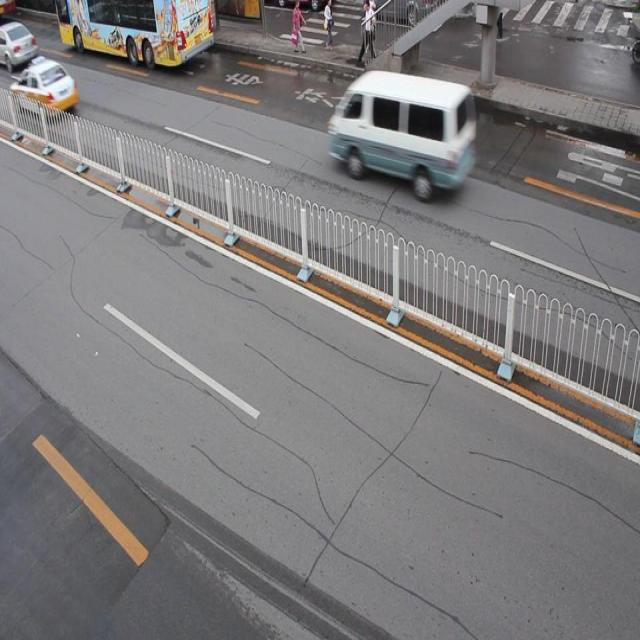car: (12, 55, 78, 118), (1, 21, 38, 69)
truck: (327, 72, 474, 192)
van: (56, 1, 214, 68)
